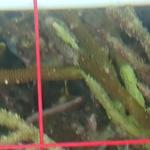alive: (4, 6, 148, 147)
